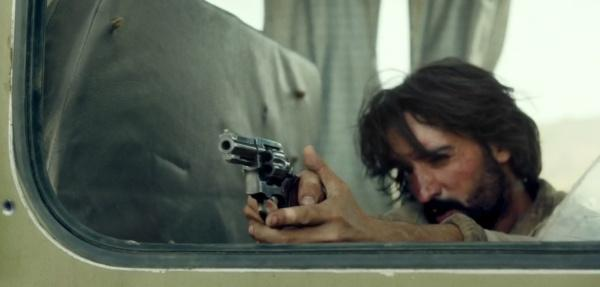Gun: (217, 127, 300, 224)
